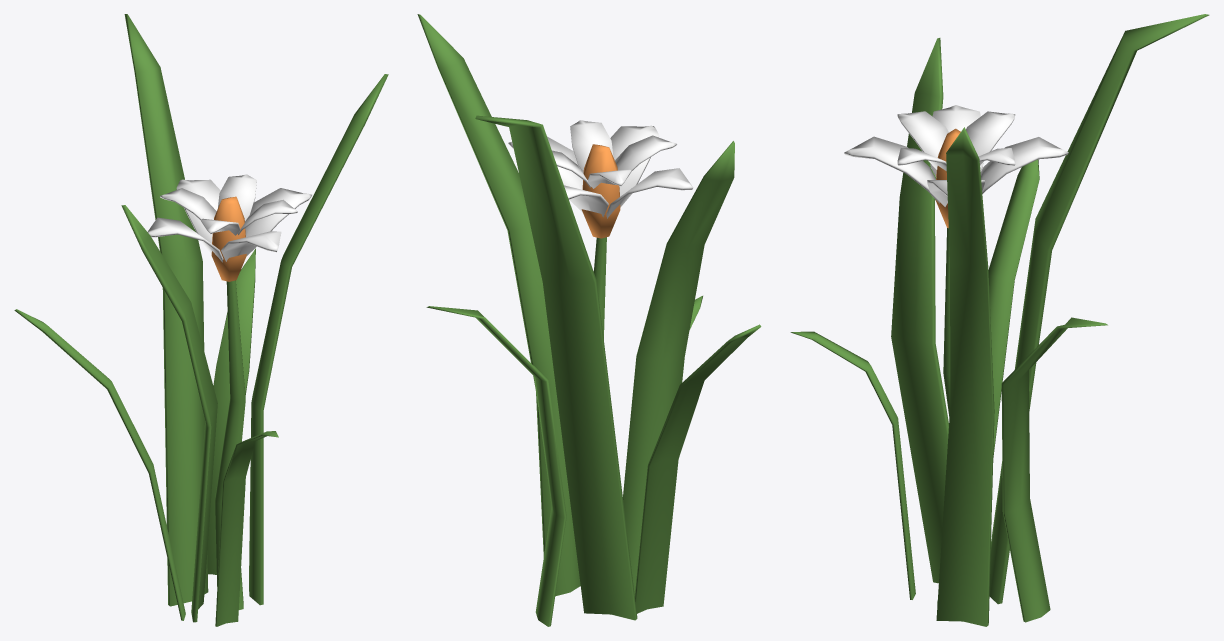
File: Flower2.fbx
The picture shows the model from 3 angles, left to right: view 1: azimuth 30°, elevation 25°; view 2: azimuth 150°, elevation 25°; view 3: azimuth 270°, elevation 25°; orthographic projection. The views are drawn at different scales.
Visible parts, largest first — view 1: flower2; view 2: flower2; view 3: flower2.
Part boxes in pixels (x1,y1,x2,y2): flower2: (14,14,388,626); flower2: (417,14,761,626); flower2: (790,14,1209,626).
Size of the model in its own units: 0.9007 by 1.28 by 0.8207.
